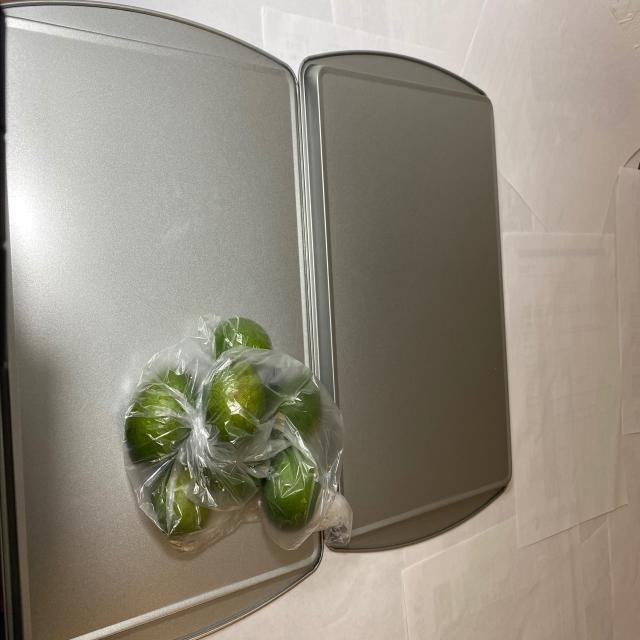lemon: (124, 324, 327, 548)
